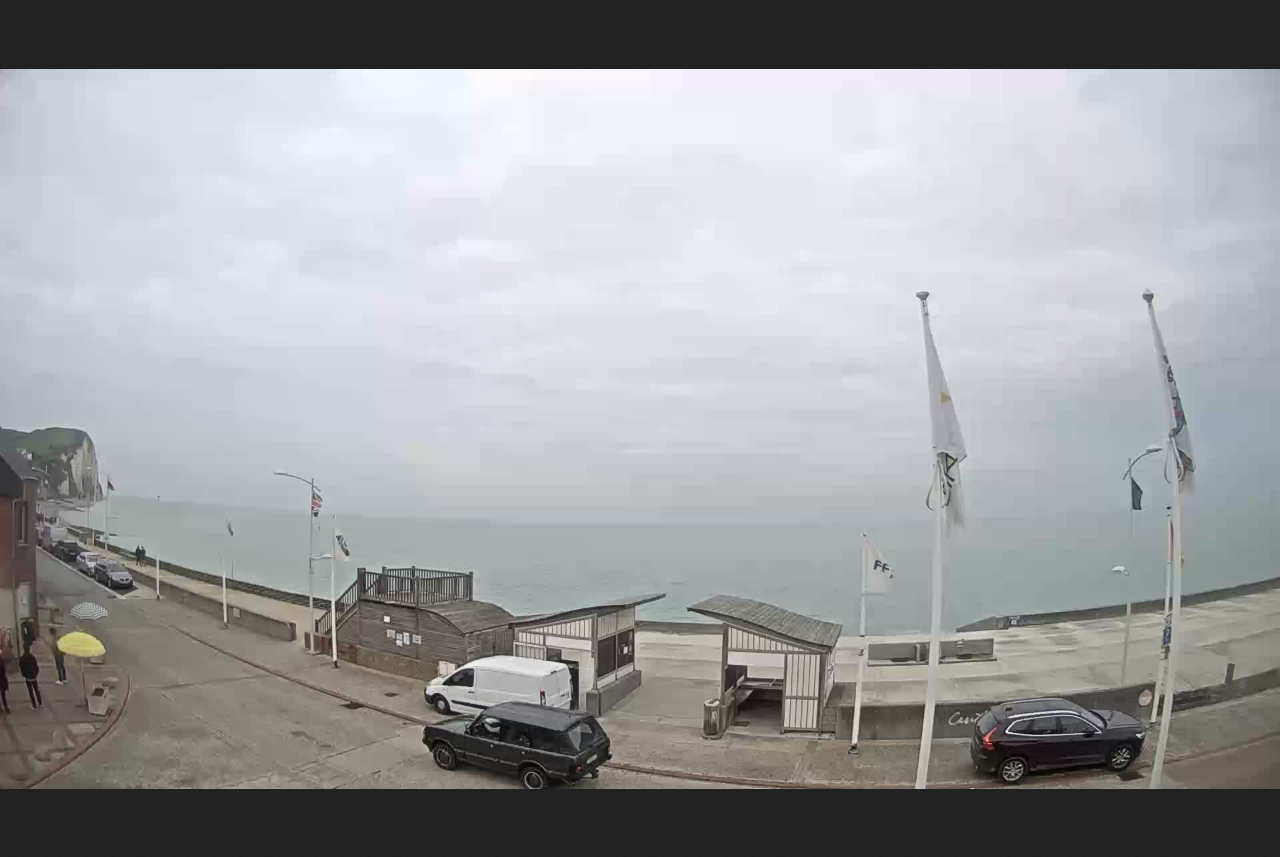maybe: (862, 533, 898, 595)
no: (921, 309, 970, 547), (1149, 304, 1200, 500), (329, 525, 355, 564), (221, 510, 234, 535)
